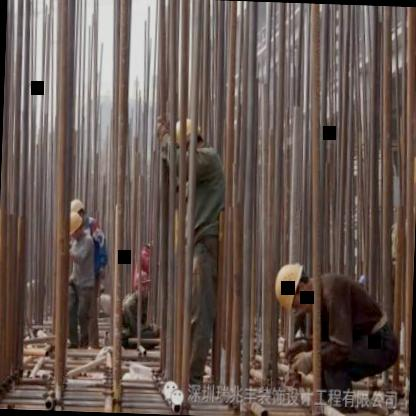helmet: (272, 256, 314, 320), (168, 118, 210, 164), (62, 211, 83, 240), (68, 198, 86, 223)
